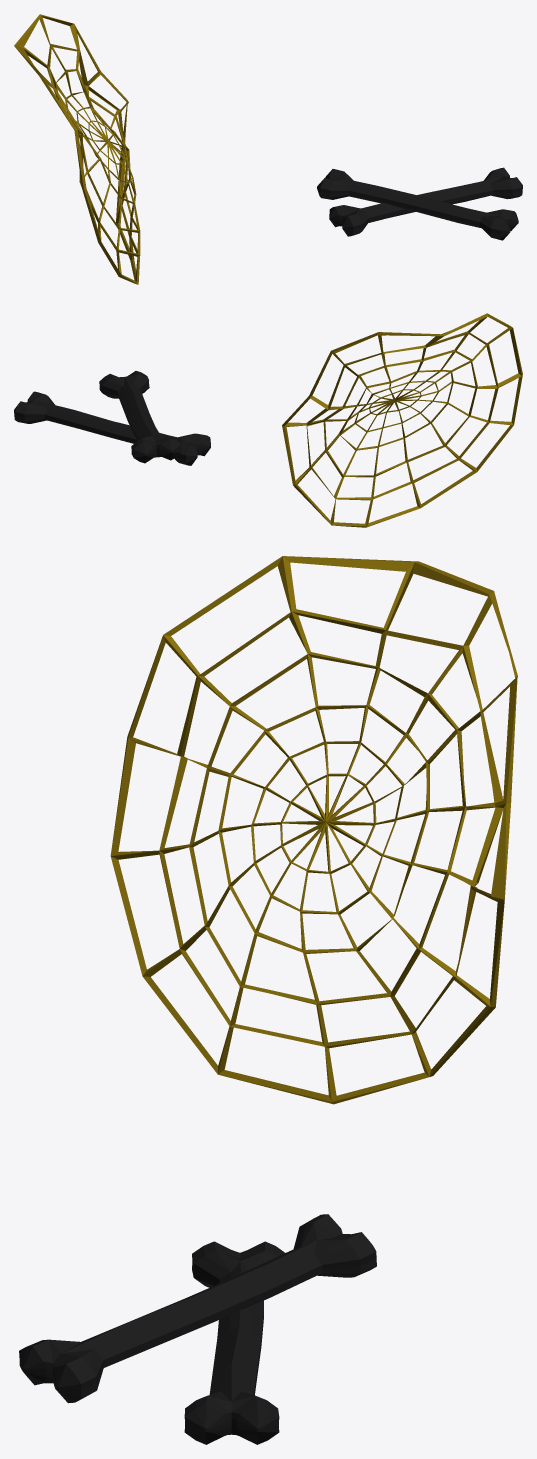
The model's file is ChestV3_Loot.glb.
The picture shows the model from 3 angles, top to bottom: view 1: azimuth 30°, elevation 25°; view 2: azimuth 150°, elevation 25°; view 3: azimuth 270°, elevation 25°; orthographic projection. The views are drawn at different scales.
Visible parts, largest first — view 1: ChestV3_Loot; view 2: ChestV3_Loot; view 3: ChestV3_Loot.
Boxes of the visible parts, x1=… form: ChestV3_Loot: x1=14, y1=14, x2=522, y2=284; ChestV3_Loot: x1=14, y1=313, x2=522, y2=527; ChestV3_Loot: x1=19, y1=556, x2=517, y2=1444.
Size of the model in its own units: 60.61 by 28.84 by 28.21.
1 material, 1 textured.
